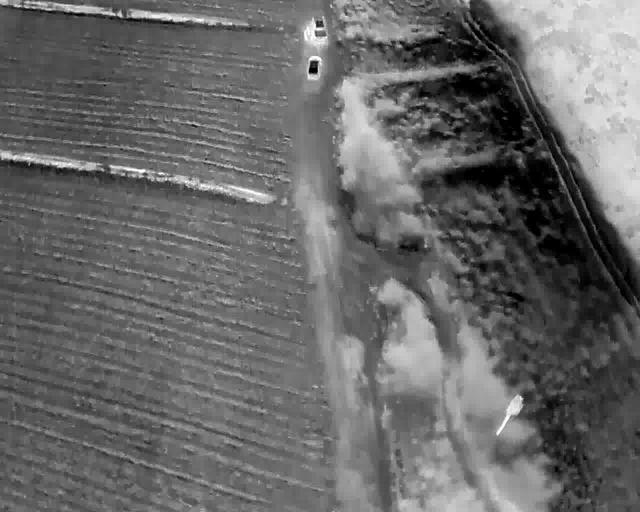car: (312, 16, 328, 40)
person: (303, 31, 307, 40)
